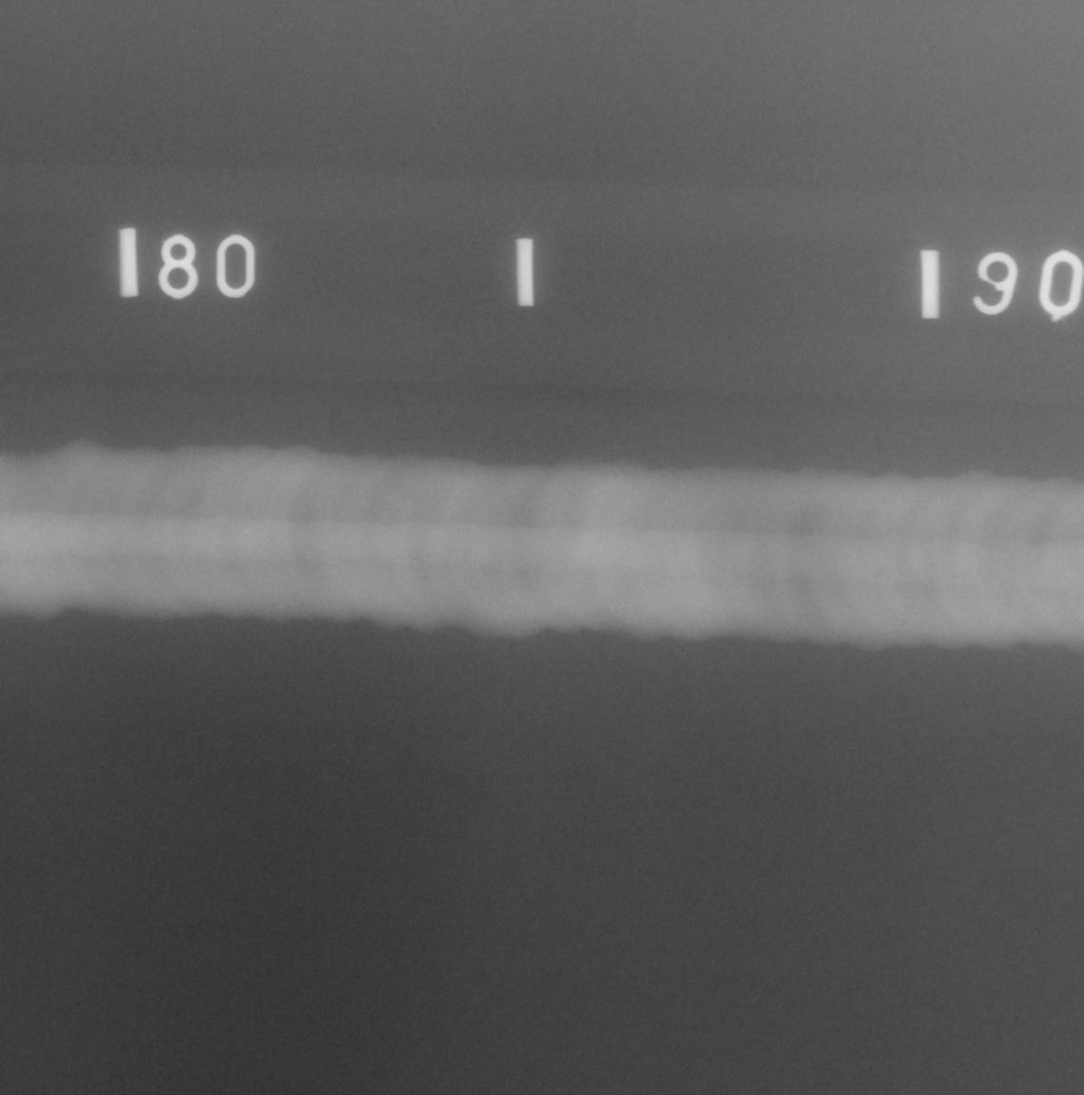Pore/Porosity: (569, 492, 574, 499), (307, 527, 312, 532), (7, 554, 10, 558), (529, 525, 532, 528)
